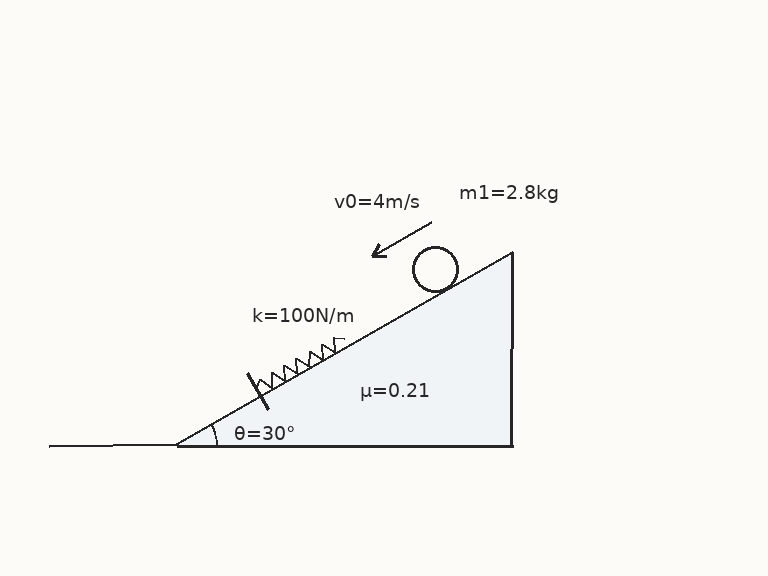ball: (410, 244, 460, 294)
ramp: (175, 250, 514, 447)
spring: (254, 334, 345, 391)
